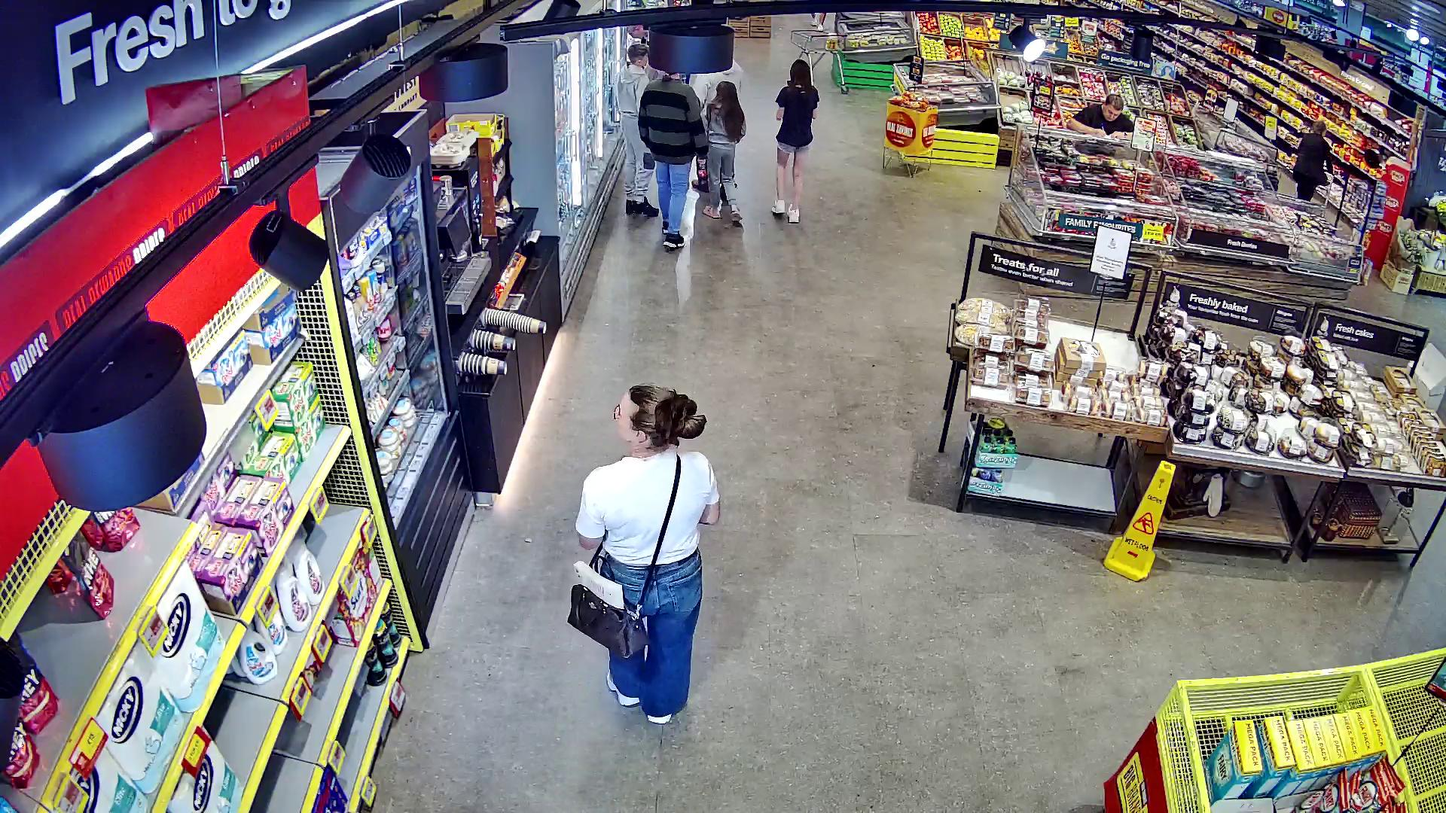backpack-or-handbag: (565, 561, 651, 660)
person: (574, 383, 721, 724)
person-with-backpack-handbag: (566, 381, 721, 723)
